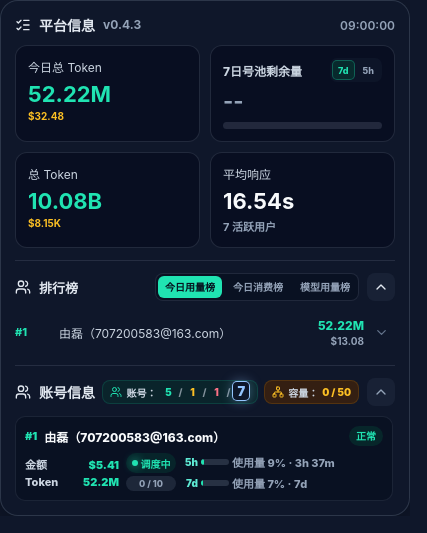
Test: App settings sync › shows group account details by default and allows collapsing them
Check: the element with class "section-title" shows "排行榜", box [39, 280, 78, 296]
Check: the text with class "token-cost" reads "$32.48", box [28, 110, 64, 122]
Click the button with class "account-details-toggle" at point(381, 392), box [367, 378, 395, 406]
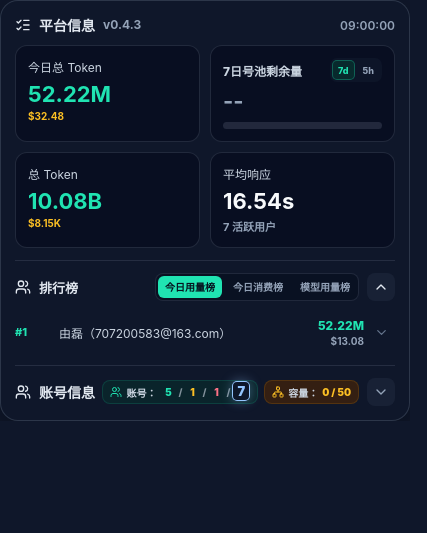
Click the button with class "account-details-toggle" at point(381, 392), box [367, 378, 395, 406]
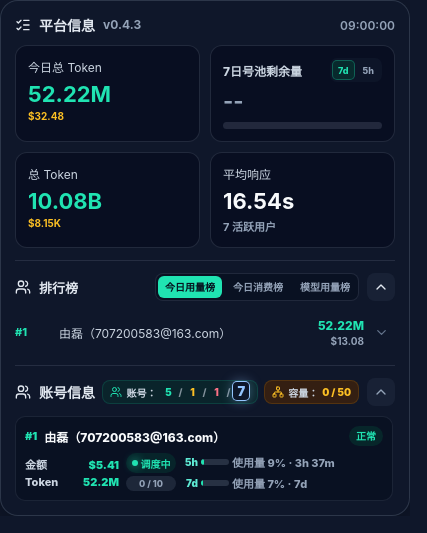
Check: the element showing "调度中" is shown, box [126, 453, 176, 473]
